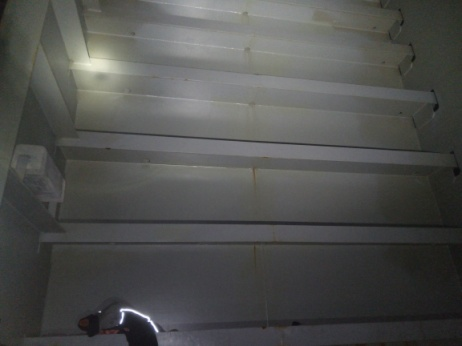corrosion: (246, 167, 264, 211), (239, 42, 260, 71), (245, 248, 262, 275), (246, 104, 267, 124), (240, 9, 253, 19)
